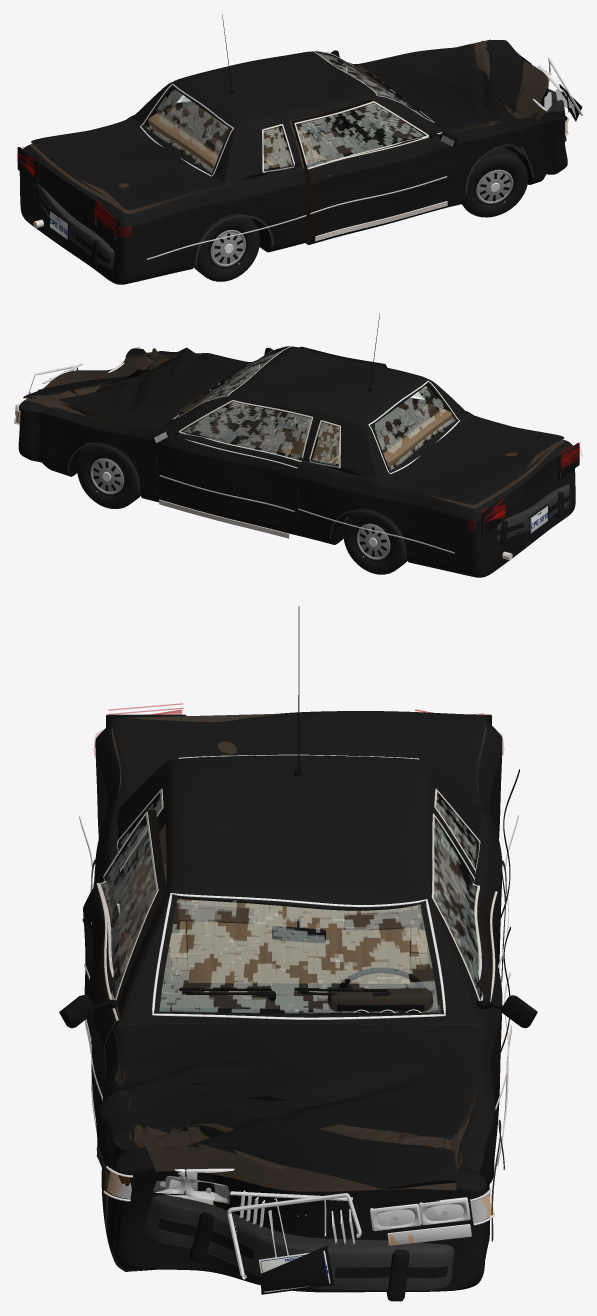
Rendered from coupe84_front_corner_R_d1.glb.
The picture shows the model from 3 angles, top to bottom: view 1: azimuth 30°, elevation 25°; view 2: azimuth 150°, elevation 25°; view 3: azimuth 270°, elevation 25°; orthographic projection. The views are drawn at different scales.
Parts seen in each view (by area): view 1: Body, Door_FR, Hood, Trunk, Interior, Glass, Glass_FR, Wheel_FR_mesh, Wheel_RR_mesh, Ends, Trim_FR, Trim (+3 smaller); view 2: Body, Door_FL, Trunk, Hood, Interior, Glass, Wheel_FL_mesh, Wheel_RL_mesh, Glass_FL, Trim_FL, Ends, Trim (+3 smaller); view 3: Body, Hood, Interior, Glass, Trunk, Bumper_F, Ends, Door_FR, Door_FL, Trim, Glass_FR, Trim_FL (+3 smaller).
Boxes of the visible parts, x1,y1,x2,y2 form: Body: (19, 51, 567, 284); Door_FR: (291, 99, 451, 244); Hood: (356, 39, 525, 133); Trunk: (31, 118, 222, 209); Interior: (148, 65, 421, 170); Glass: (140, 50, 434, 176); Glass_FR: (293, 101, 425, 170); Wheel_FR_mesh: (462, 147, 528, 217); Wheel_RR_mesh: (194, 213, 259, 281); Ends: (17, 53, 582, 241); Trim_FR: (294, 101, 457, 241); Trim: (142, 14, 533, 265); Body: (18, 346, 575, 577); Door_FL: (155, 399, 313, 535); Trunk: (380, 414, 564, 504); Hood: (23, 351, 248, 430); Interior: (179, 369, 451, 468); Glass: (172, 346, 459, 473); Wheel_FL_mesh: (77, 442, 140, 508); Wheel_RL_mesh: (343, 508, 407, 574); Glass_FL: (182, 400, 312, 462); Trim_FL: (151, 400, 313, 538); Ends: (14, 347, 579, 535); Trim: (67, 313, 454, 558); Body: (95, 722, 502, 1292); Hood: (114, 1023, 483, 1189); Interior: (160, 898, 437, 1012); Glass: (120, 754, 476, 1019); Trunk: (112, 711, 485, 809); Bumper_F: (143, 1195, 454, 1301); Ends: (103, 714, 495, 1294); Door_FR: (83, 810, 167, 1118); Door_FL: (430, 812, 502, 1151); Trim: (79, 606, 519, 1241); Glass_FR: (99, 824, 159, 995); Trim_FL: (431, 813, 537, 1165).
Size of the model in its own units: 5.16 by 2.17 by 2.13.
34 materials, 5 textured.
